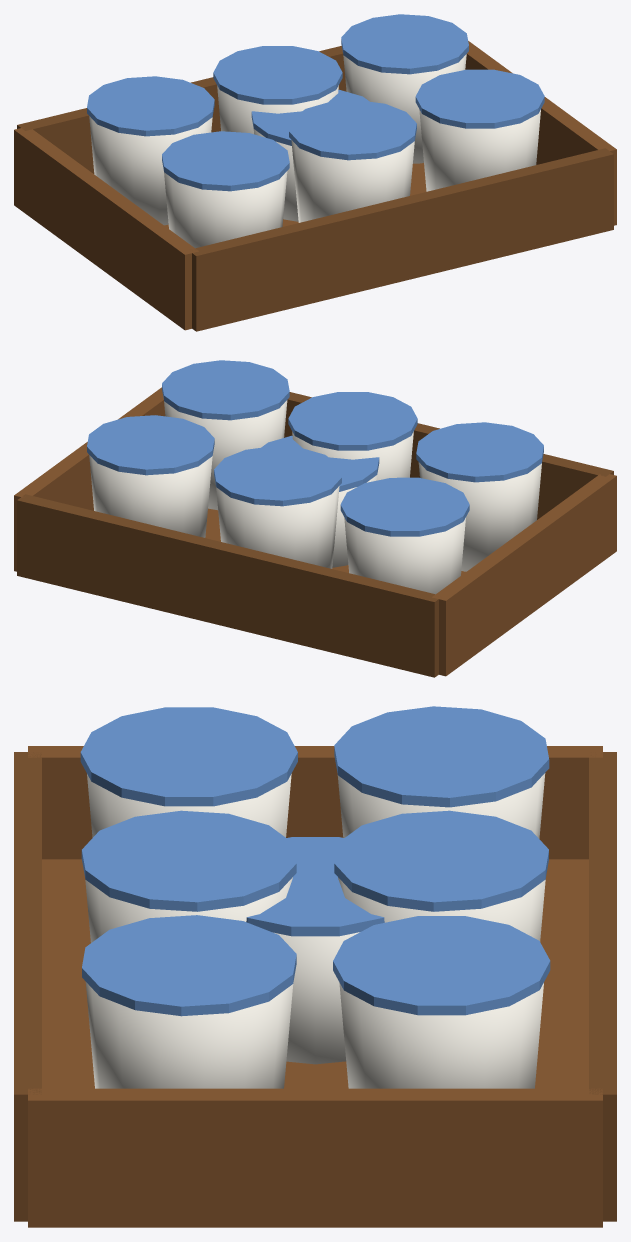
The model's file is Proc_Yogurt.fbx.
The picture shows the model from 3 angles, top to bottom: view 1: azimuth 30°, elevation 25°; view 2: azimuth 150°, elevation 25°; view 3: azimuth 270°, elevation 25°; orthographic projection. The views are drawn at different scales.
Parts seen in each view (by area): view 1: Proc_Yogurt__Stack, Proc_Yogurt; view 2: Proc_Yogurt__Stack, Proc_Yogurt; view 3: Proc_Yogurt__Stack, Proc_Yogurt.
Boxes of the visible parts, left/top/right/bottom form: Proc_Yogurt__Stack: left=14, top=14, right=616, bottom=331; Proc_Yogurt: left=251, top=89, right=369, bottom=221; Proc_Yogurt__Stack: left=14, top=360, right=616, bottom=677; Proc_Yogurt: left=261, top=435, right=379, bottom=567; Proc_Yogurt__Stack: left=14, top=706, right=616, bottom=1227; Proc_Yogurt: left=246, top=837, right=384, bottom=1064.
Size of the model in its own units: 0.2393 by 0.061 by 0.172.
